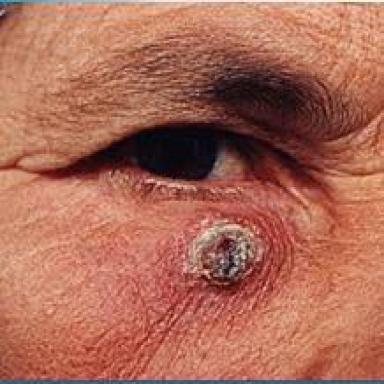Leishmanios: (182, 217, 265, 286)
